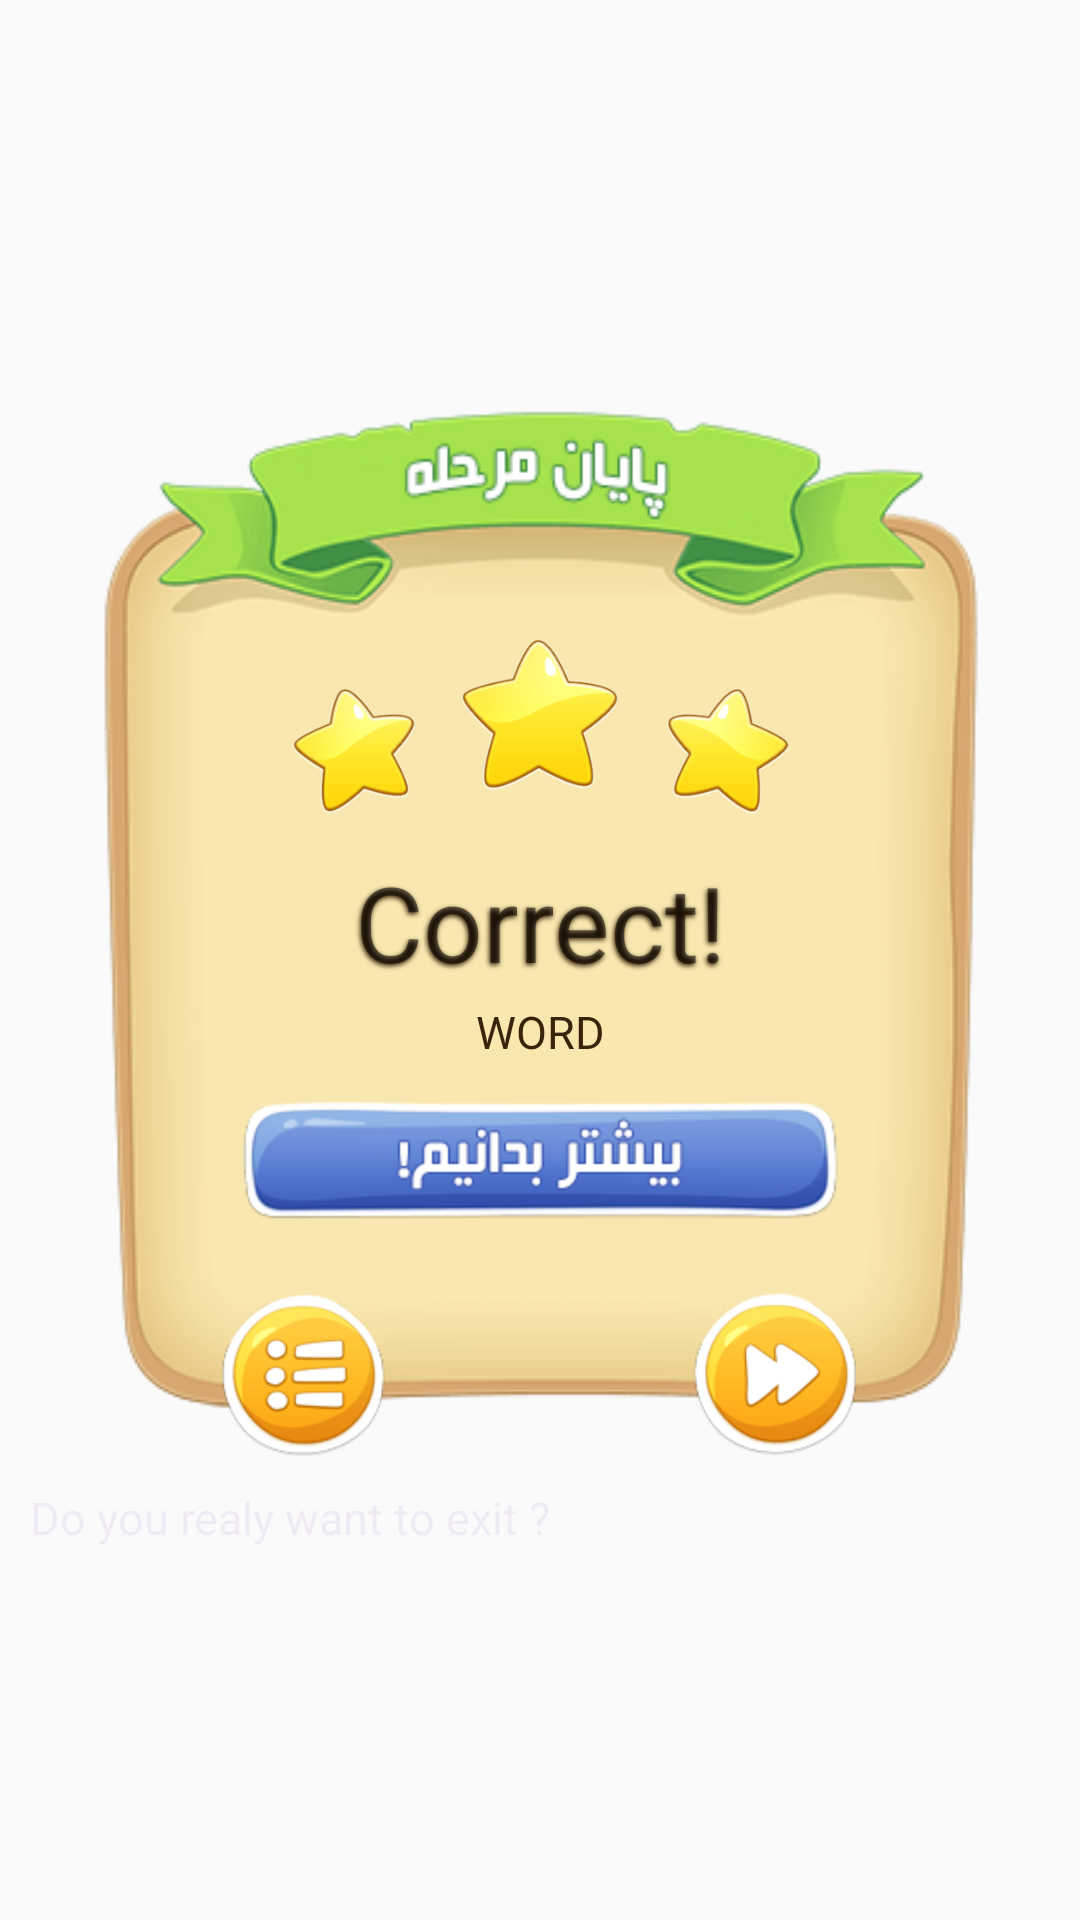

Named icons in this screenshot (1080w x 1920h) and their centers, (x=x, y=y):
clear menu: (x=304, y=1374)
clear next: (x=775, y=1374)
